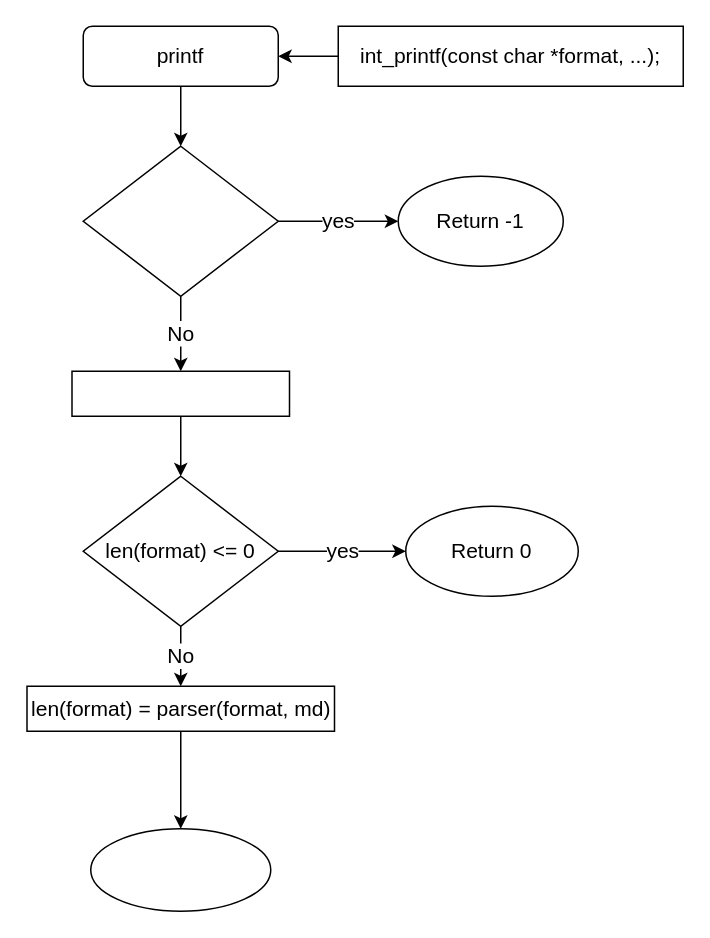
Some shapes in this 710 by 938 pixel diagram are drawn without their labels. Each missing label, with the centre of its shape:
format == NULL: the point at 180,220
len(format): the point at 180,393
Return len(format): the point at 180,869
